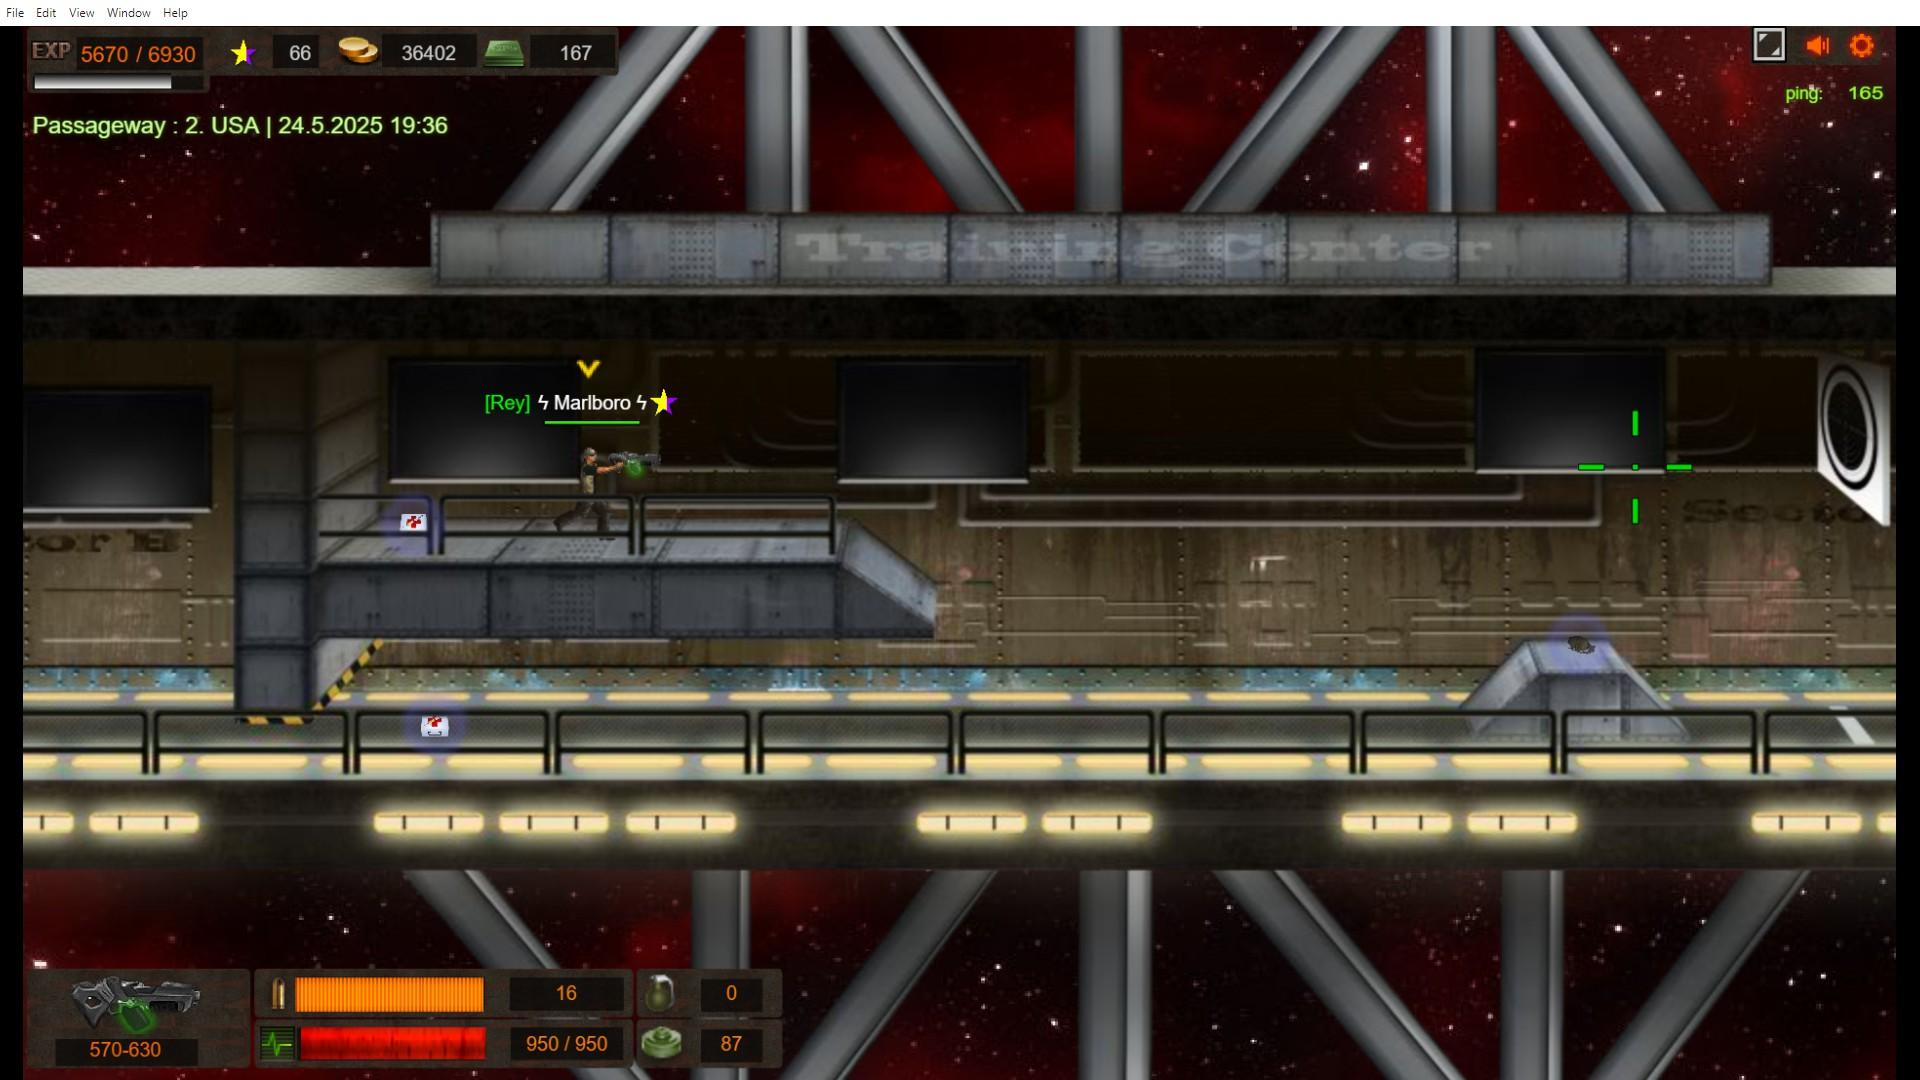enemy: (576, 450, 612, 543)
